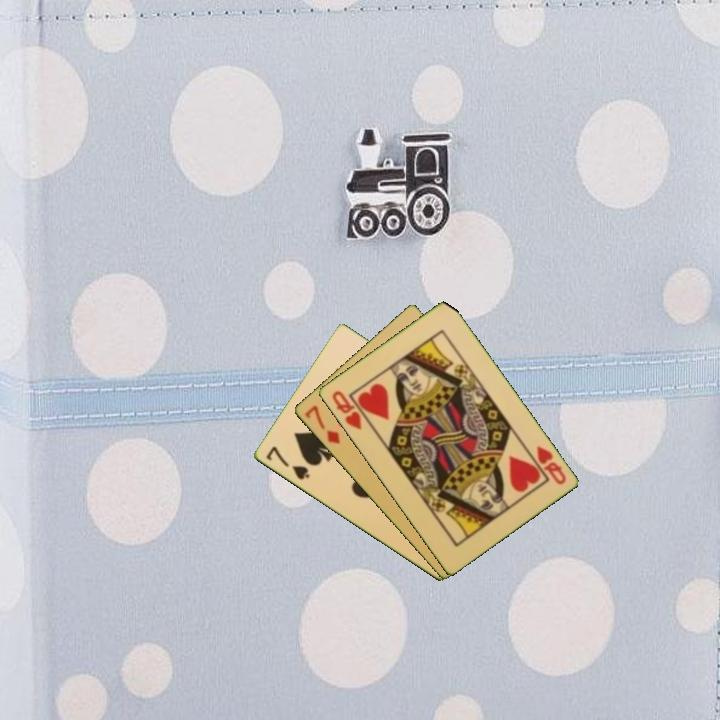7d: (301, 402, 343, 447)
7s: (262, 443, 312, 483)
Qh: (532, 442, 569, 488), (328, 387, 364, 433)
